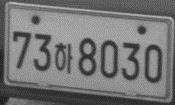0: (144, 42, 163, 83), (100, 39, 119, 77)
3: (32, 32, 52, 70), (121, 41, 140, 80)
7: (11, 30, 32, 68)
8: (77, 36, 97, 76)
하: (53, 41, 73, 73)
